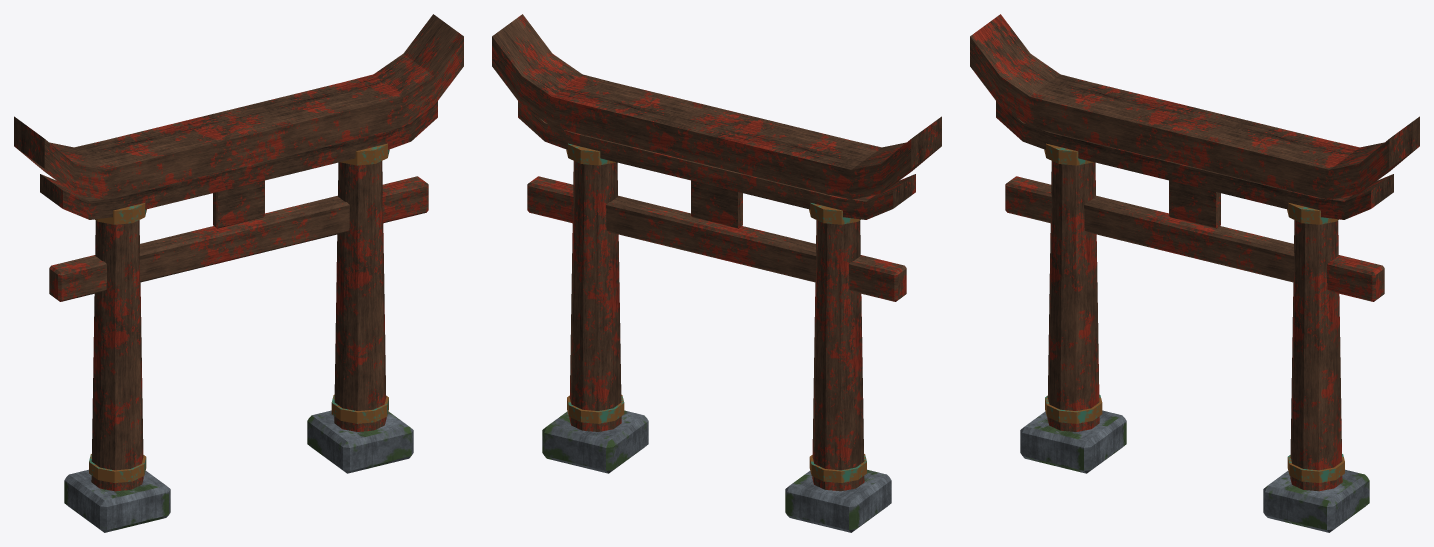
Rendered from Bell_Timber_Gate.glb.
3 renders of one model, left to right at view 1: azimuth 30°, elevation 25°; view 2: azimuth 150°, elevation 25°; view 3: azimuth 330°, elevation 25°, orthographic.
Visible parts, largest first — view 1: Bell_Timber_Gate__Timber, Bell_Timber_Gate__Stone, Bell_Timber_Gate__Bronze; view 2: Bell_Timber_Gate__Timber, Bell_Timber_Gate__Stone, Bell_Timber_Gate__Bronze; view 3: Bell_Timber_Gate__Timber, Bell_Timber_Gate__Stone, Bell_Timber_Gate__Bronze.
Part boxes in pixels (bbox=[...]): Bell_Timber_Gate__Timber: bbox=[14, 14, 463, 491]; Bell_Timber_Gate__Stone: bbox=[64, 410, 413, 532]; Bell_Timber_Gate__Bronze: bbox=[89, 143, 389, 482]; Bell_Timber_Gate__Timber: bbox=[492, 14, 941, 491]; Bell_Timber_Gate__Stone: bbox=[542, 410, 891, 532]; Bell_Timber_Gate__Bronze: bbox=[566, 143, 866, 482]; Bell_Timber_Gate__Timber: bbox=[970, 14, 1419, 491]; Bell_Timber_Gate__Stone: bbox=[1020, 410, 1369, 532]; Bell_Timber_Gate__Bronze: bbox=[1044, 143, 1344, 482].
Size of the model in its own units: 19 by 17.6 by 3.2.
Materials: 3 (3 with a texture image).
